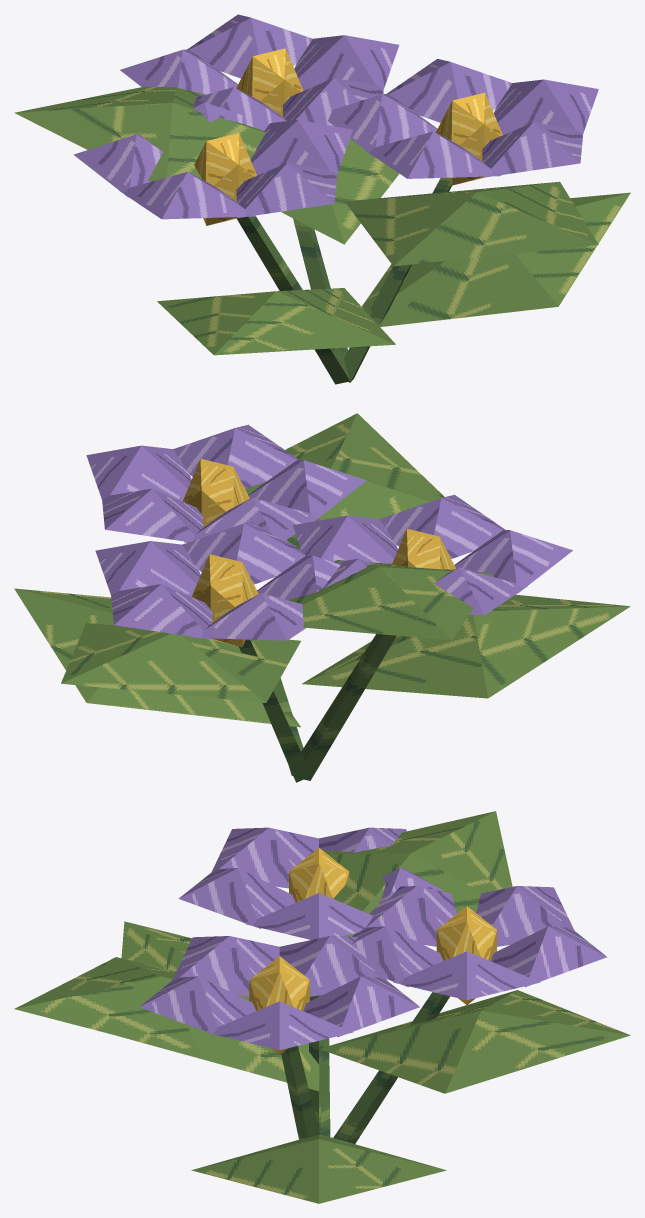
File: flor-violeta-v01.gltf
3 views of the same model, one above another, from view 1: azimuth 30°, elevation 25°; view 2: azimuth 150°, elevation 25°; view 3: azimuth 270°, elevation 25° (orthographic). The views are drawn at different scales.
Parts seen in each view (by area): view 1: folhas, petalas, miolo, hastes; view 2: folhas, petalas, miolo, hastes; view 3: petalas, folhas, miolo, hastes.
Part boxes in pixels (left/top/right/bottom): folhas: left=14, top=86, right=630, bottom=355; petalas: left=73, top=14, right=598, bottom=219; miolo: left=194, top=48, right=502, bottom=225; hastes: left=237, top=177, right=452, bottom=384; folhas: left=14, top=413, right=630, bottom=727; petalas: left=86, top=424, right=572, bottom=640; miolo: left=182, top=458, right=456, bottom=647; hastes: left=239, top=634, right=396, bottom=782; petalas: left=139, top=827, right=607, bottom=1050; folhas: left=14, top=811, right=630, bottom=1203; miolo: left=249, top=848, right=496, bottom=1055; hastes: left=281, top=992, right=449, bottom=1143.
Size of the model in its own units: 0.6069 by 0.3038 by 0.626.
Materials: 1 (1 with a texture image).
